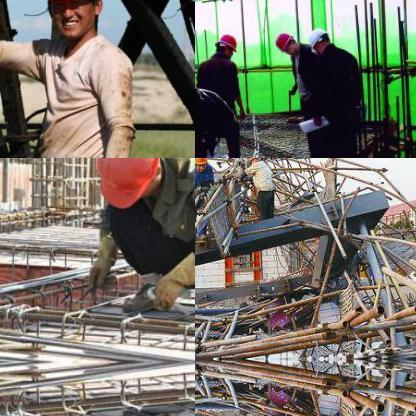Helmet: (88, 158, 168, 211), (35, 0, 108, 41), (306, 26, 333, 52), (272, 31, 302, 53), (214, 30, 235, 56), (195, 158, 210, 172), (245, 158, 260, 164)
